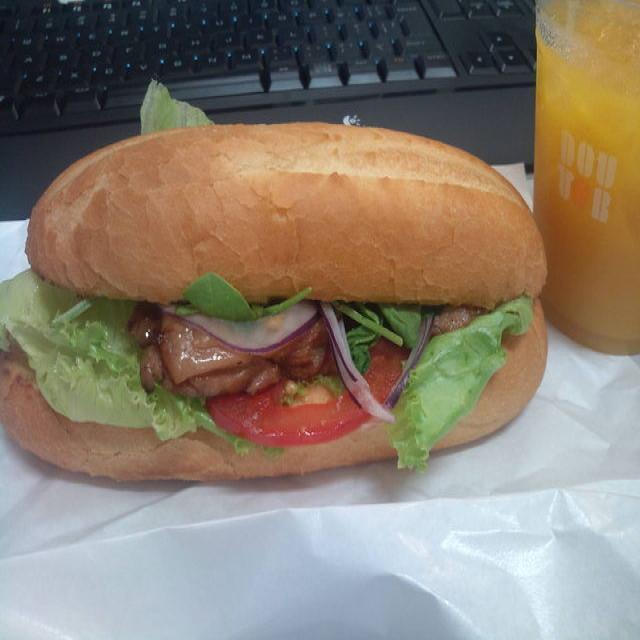三明治: (0, 112, 550, 528)
